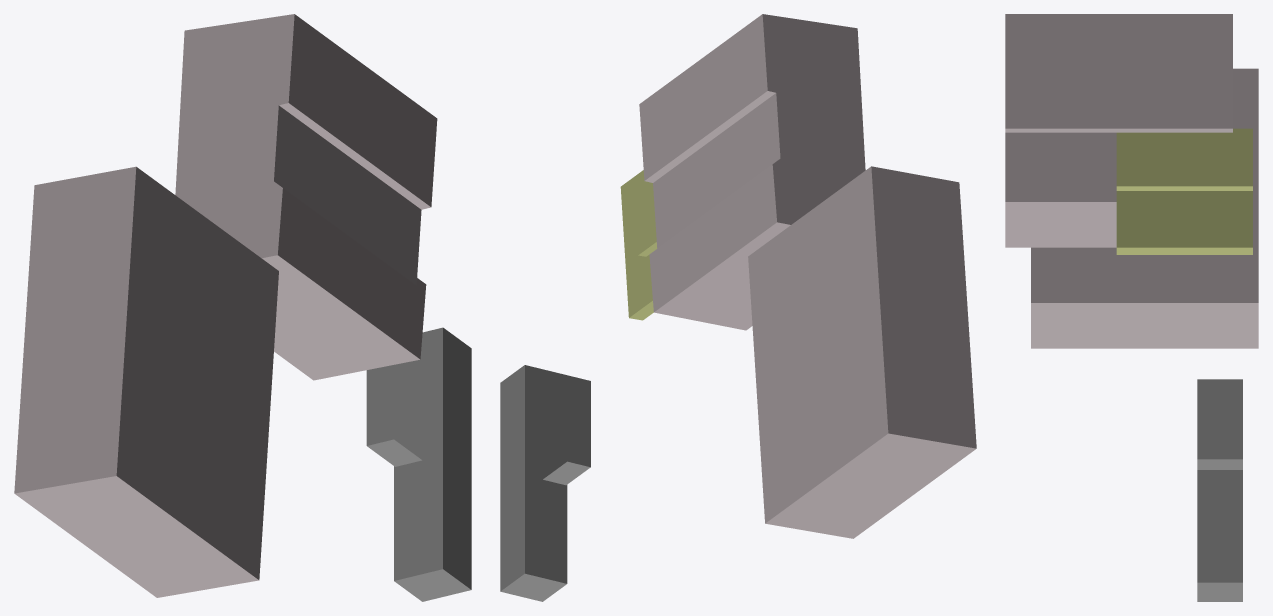
3 views of the same model, side by side, from view 1: azimuth 30°, elevation 25°; view 2: azimuth 150°, elevation 25°; view 3: azimuth 270°, elevation 25° (orthographic). The views are drawn at different scales.
Parts seen in each view (by area): view 1: 0_2_1_3_0_3_0_2_1; view 2: 0_2_1_3_0_3_0_2_1; view 3: 0_2_1_3_0_3_0_2_1.
Part boxes in pixels (x1,y1,x2,y2): 0_2_1_3_0_3_0_2_1: (14, 14, 471, 601); 0_2_1_3_0_3_0_2_1: (500, 14, 976, 601); 0_2_1_3_0_3_0_2_1: (1005, 14, 1258, 601).
Size of the model in its own units: 25.42 by 35.24 by 16.7.
